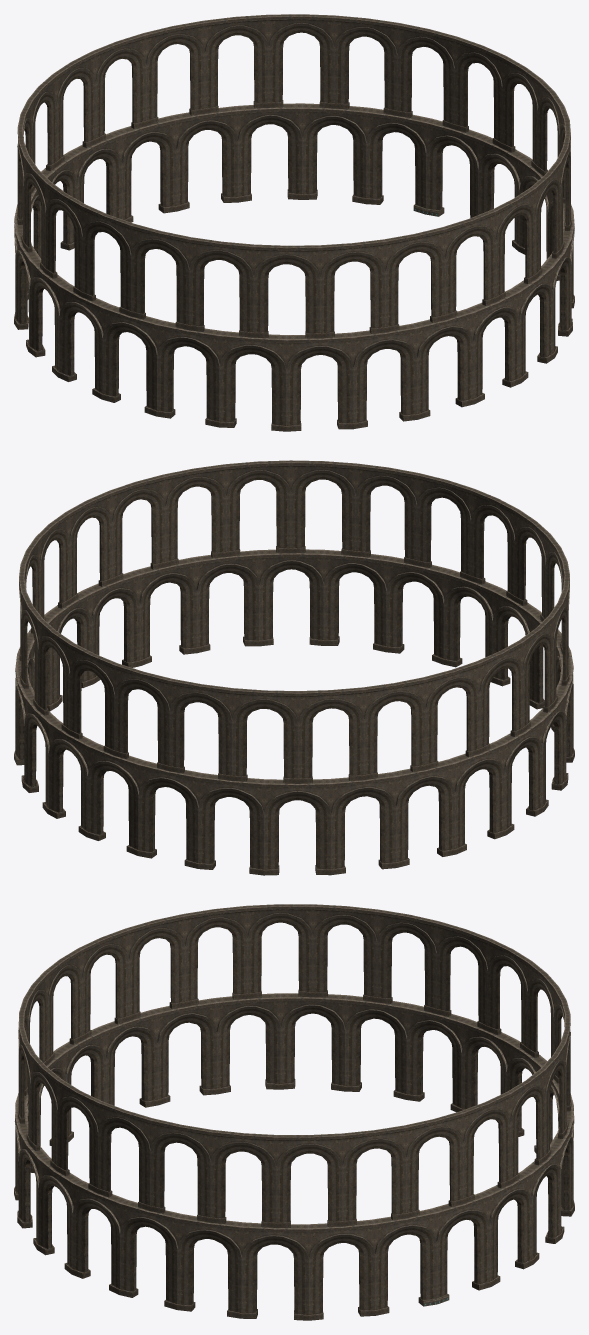
Rendered from miniboss_08.glb.
The picture shows the model from 3 angles, top to bottom: view 1: azimuth 30°, elevation 25°; view 2: azimuth 150°, elevation 25°; view 3: azimuth 270°, elevation 25°; orthographic projection.
Visible parts, largest first — view 1: miniboss_08; view 2: miniboss_08; view 3: miniboss_08.
Part boxes in pixels (x1,y1,x2,y2): miniboss_08: [14, 14, 574, 431]; miniboss_08: [14, 460, 574, 875]; miniboss_08: [14, 904, 574, 1320].
Size of the model in its own units: 252 by 89.61 by 251.
Materials: 2 (2 with a texture image).
